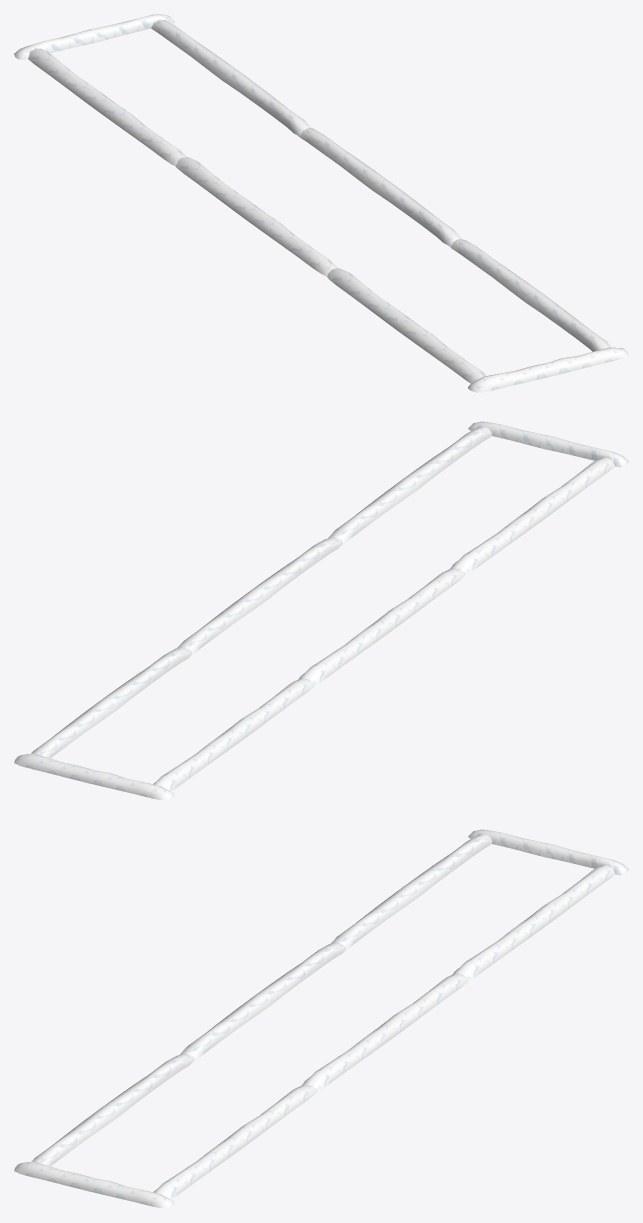
Rendered from snowbarrier.glb.
The picture shows the model from 3 angles, top to bottom: view 1: azimuth 30°, elevation 25°; view 2: azimuth 150°, elevation 25°; view 3: azimuth 330°, elevation 25°; orthographic projection.
Parts seen in each view (by area): view 1: snowref.002, snowref.003, snowref.001, snowref.005, snowref.006, snowref.004, snowref.007, snowref.008; view 2: snowref.002, snowref.001, snowref.003, snowref.005, snowref.004, snowref.006, snowref.008, snowref.007; view 3: snowref.005, snowref.004, snowref.006, snowref.002, snowref.003, snowref.001, snowref.007, snowref.008.
Part boxes in pixels (x1,y1,x2,y2): snowref.002: (175,157,337,276); snowref.003: (28,48,186,166); snowref.001: (327,268,486,383); snowref.005: (298,128,462,246); snowref.006: (151,20,310,135); snowref.004: (450,239,611,351); snowref.007: (468,347,628,392); snowref.008: (14,14,174,59); snowref.002: (299,568,465,684); snowref.001: (450,457,615,573); snowref.003: (146,678,315,797); snowref.005: (177,537,342,654); snowref.004: (328,426,491,543); snowref.006: (25,647,192,768); snowref.008: (14,753,174,800); snowref.007: (468,421,628,467); snowref.005: (302,973,469,1090); snowref.004: (153,1084,317,1199); snowref.006: (452,865,615,979); snowref.002: (179,942,346,1060); snowref.003: (331,833,491,950); snowref.001: (32,1054,194,1166); snowref.007: (14,1161,174,1208); snowref.008: (468,829,628,875).
Bounding box in the file's own units: 15.36 × 0.8873 × 79.09.
Materials: 1 (1 with a texture image).
